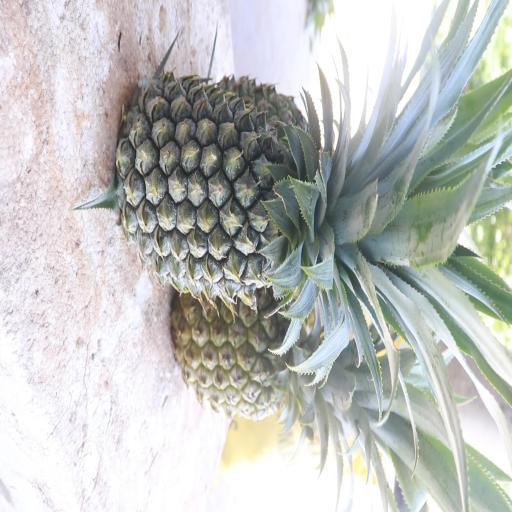------------------------------: (168, 244, 399, 423)
